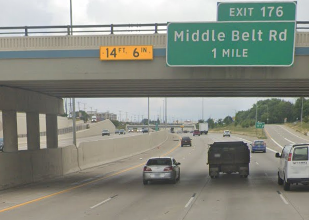1: (104, 46, 109, 60)
4: (109, 46, 118, 59)
6: (130, 46, 140, 59)
overheadsign: (99, 45, 153, 61)
